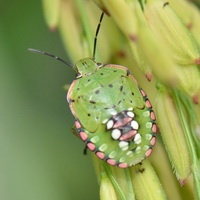insect: (28, 49, 156, 167)
